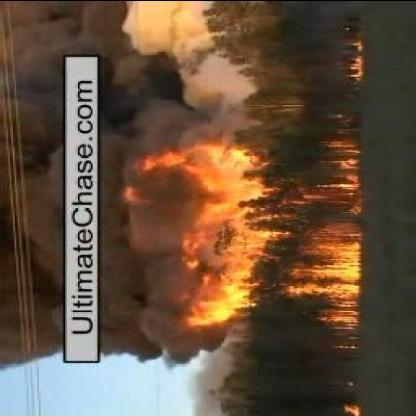-: (104, 32, 177, 356), (2, 26, 61, 362)
foggia-v2-map80-epoch100 - v1 4323: (315, 241, 361, 295)
